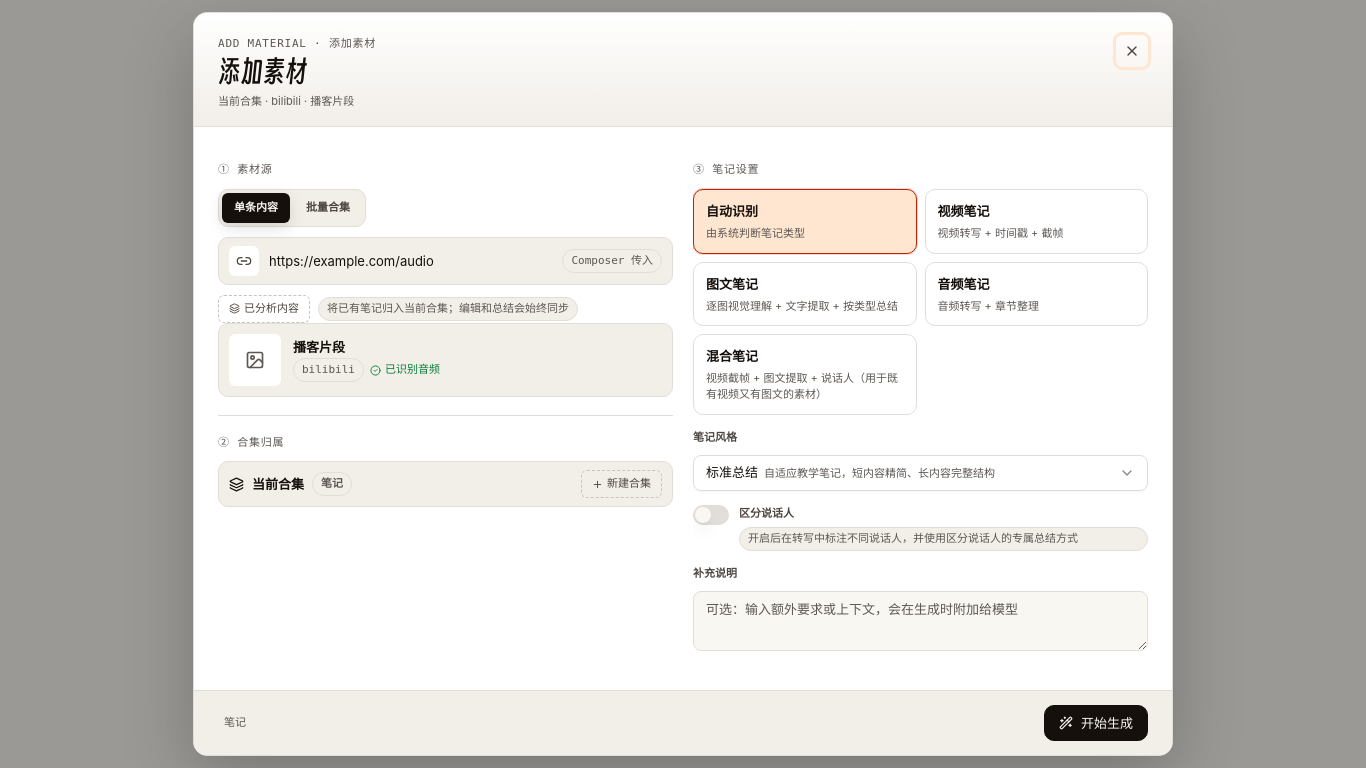
Test case: AddMaterialModal › 音频笔记直接显示区分说话人设置，且不展示非笔记功能
The image size is (1366, 768).
Click the button "音频笔记 音频转写 + 章节整理" at coordinates (1036, 294), box x1=924 y1=262 x2=1148 y2=326
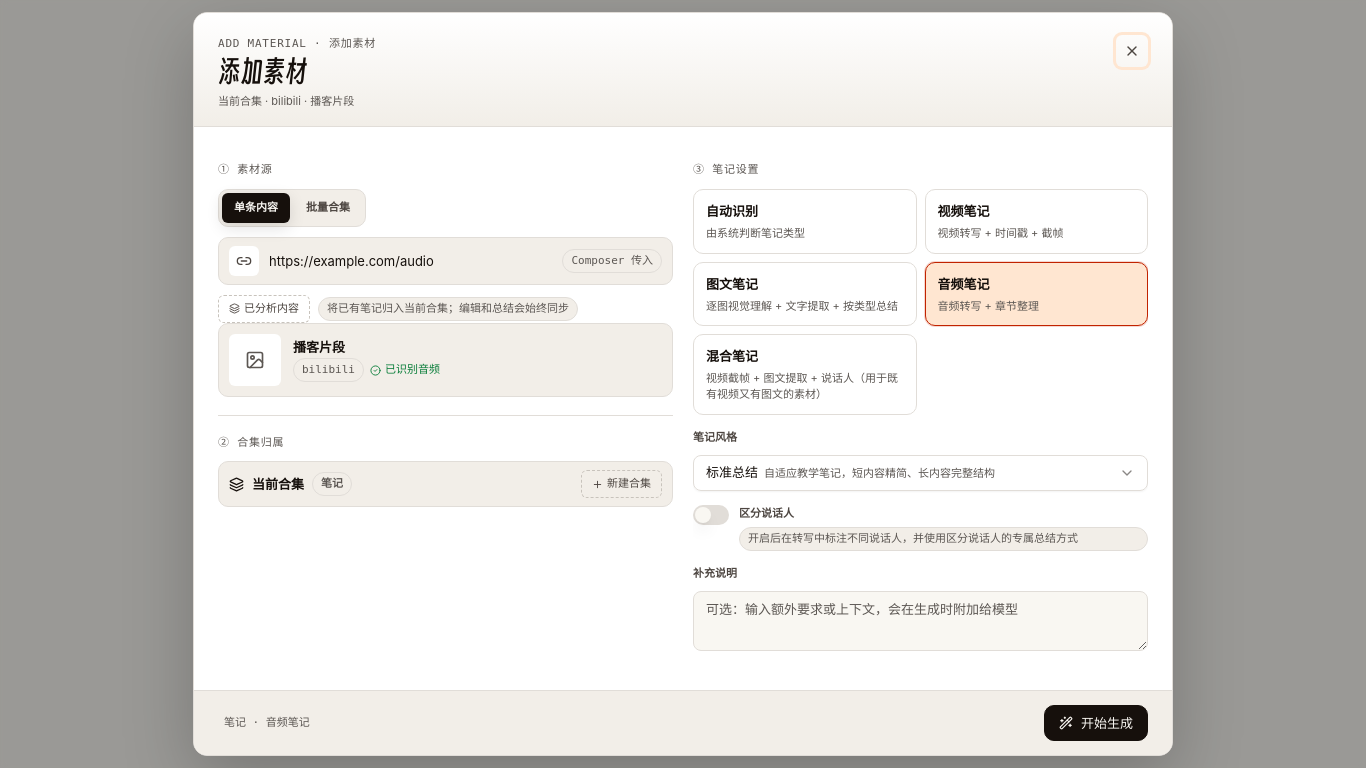
Expected: the text "区分说话人" is shown, x1=739 y1=507 x2=794 y2=520
Expected: the text box with placeholder "可选：输入额外要求或上下文，会在生成时附加给模型" is shown, x1=693 y1=590 x2=1148 y2=650
Click the switch at coordinates (711, 515), box x1=693 y1=505 x2=729 y2=525
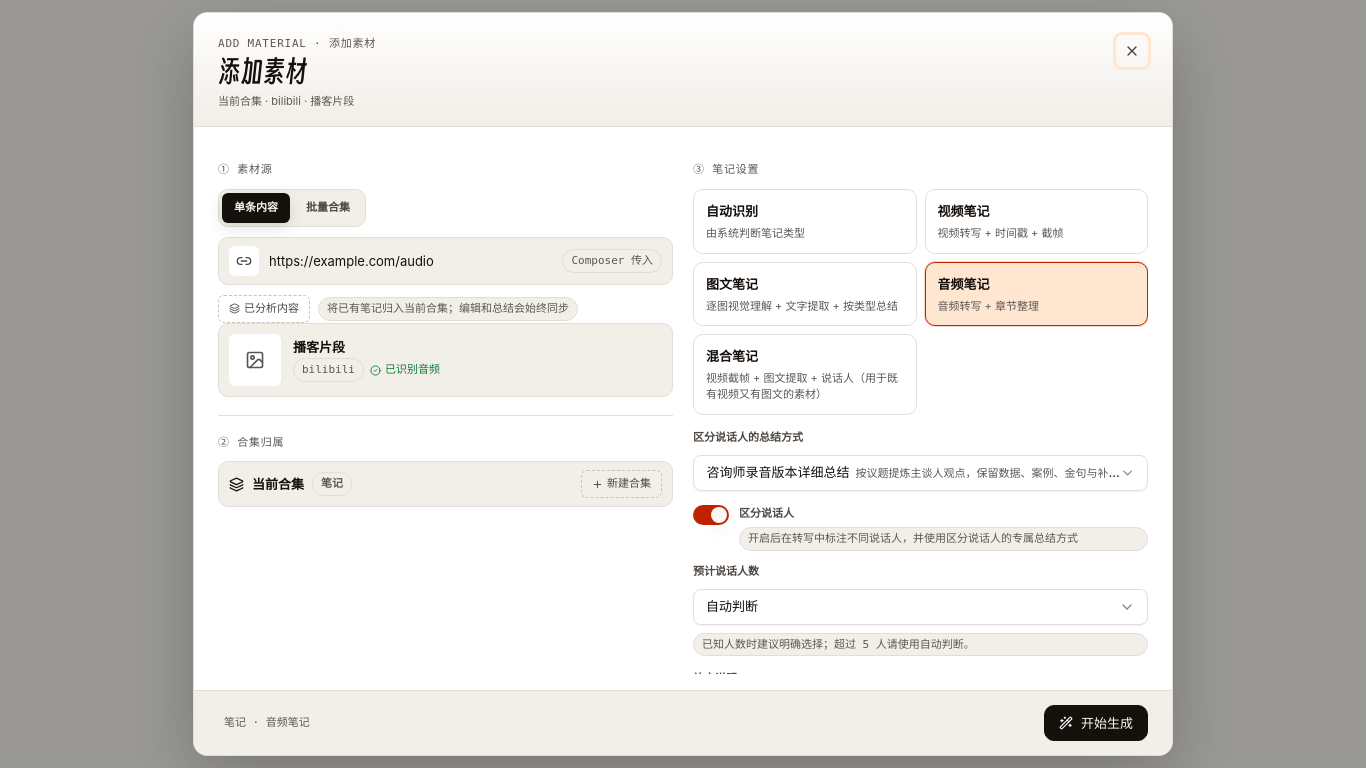
Expected: the text "区分说话人的总结方式" is shown, x1=693 y1=431 x2=803 y2=444
Expected: the text "咨询师录音版本详细总结" is shown, x1=706 y1=464 x2=849 y2=480
Expected: the dropdown named "预计说话人数" is shown, x1=693 y1=588 x2=1148 y2=624
